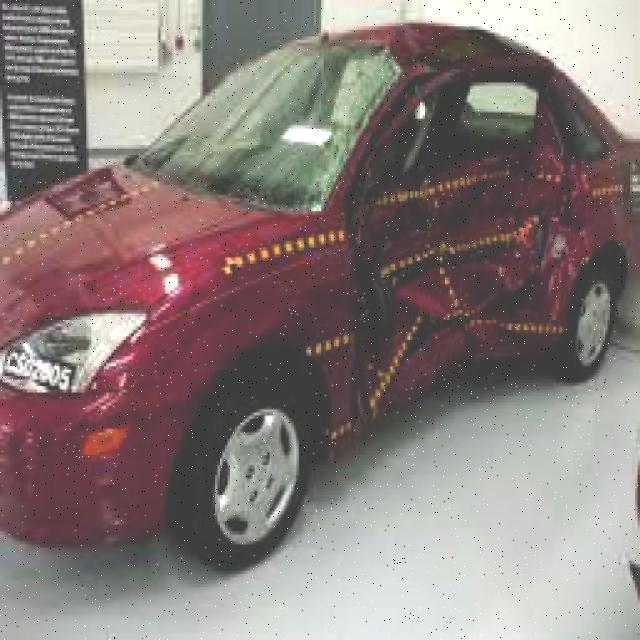car damage: (305, 27, 600, 466)
